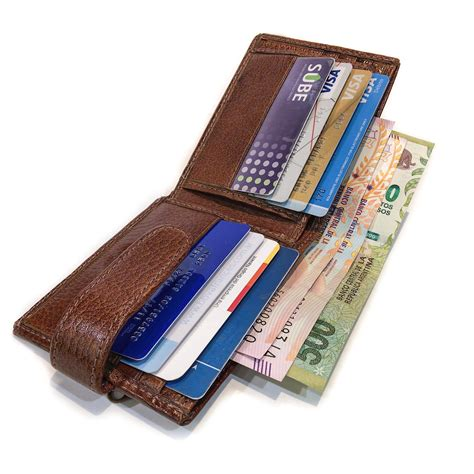cuero: (16, 30, 401, 427)
